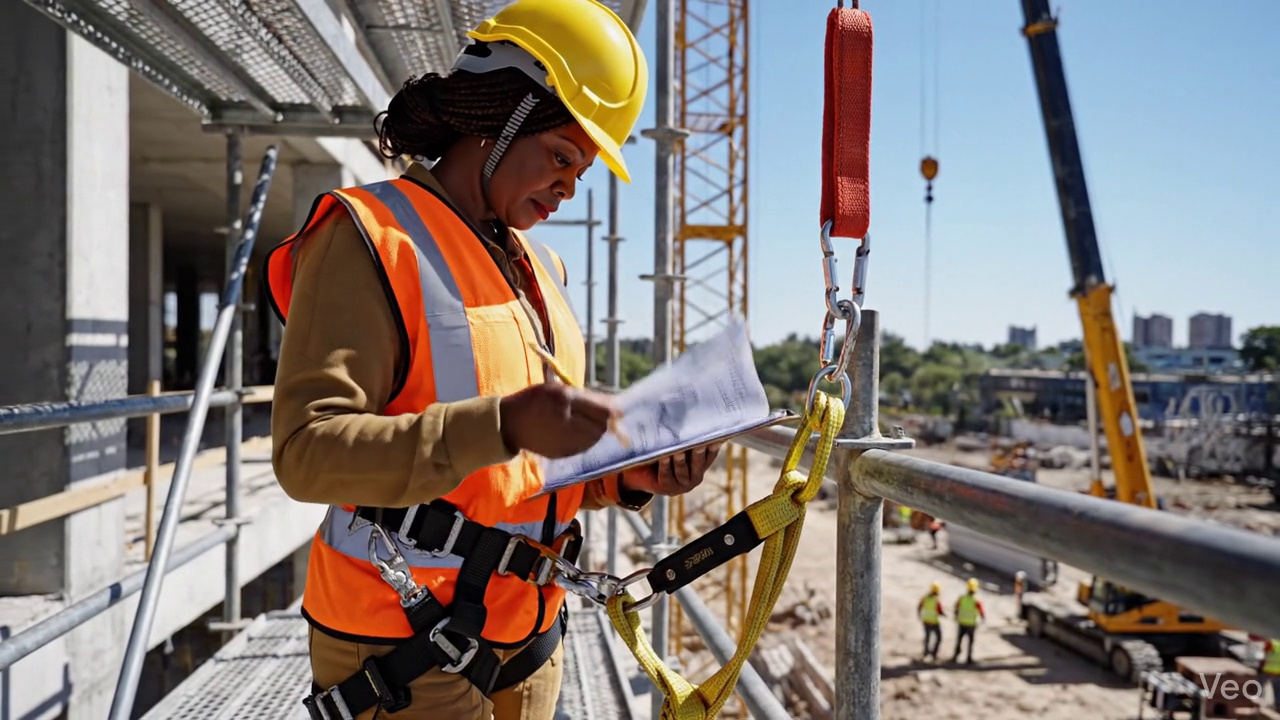p: (267, 0, 718, 719)
